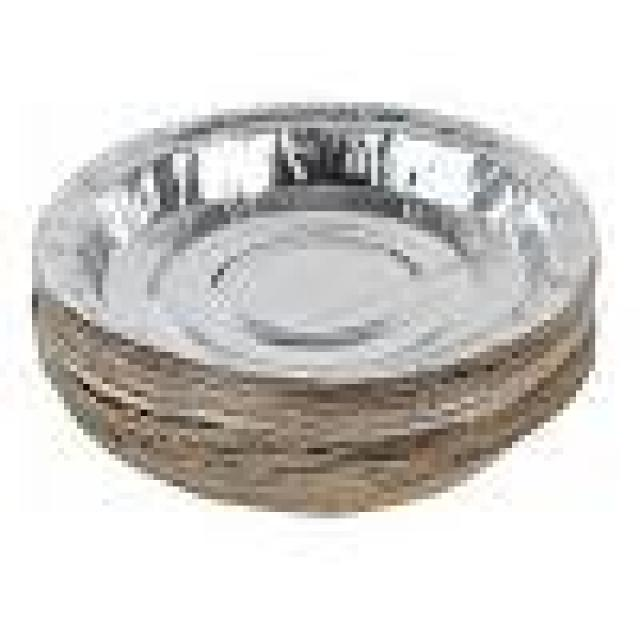Paper -Biodegradable-: (28, 103, 595, 512)
